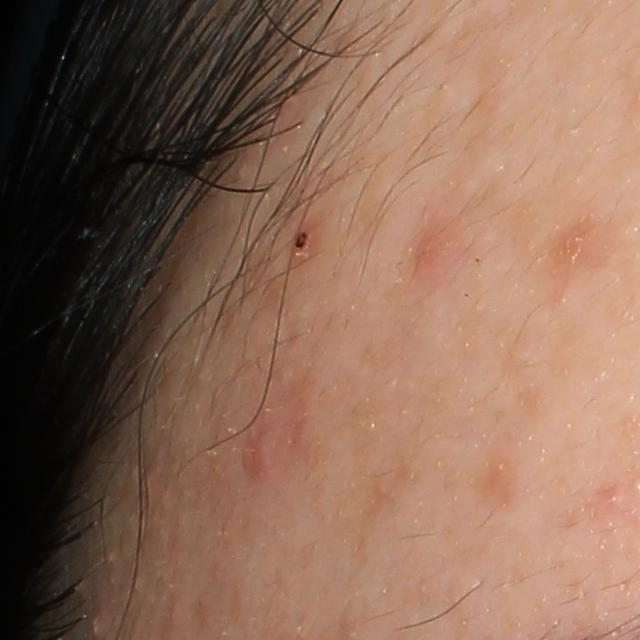papule: (407, 217, 458, 284), (241, 421, 287, 479)
